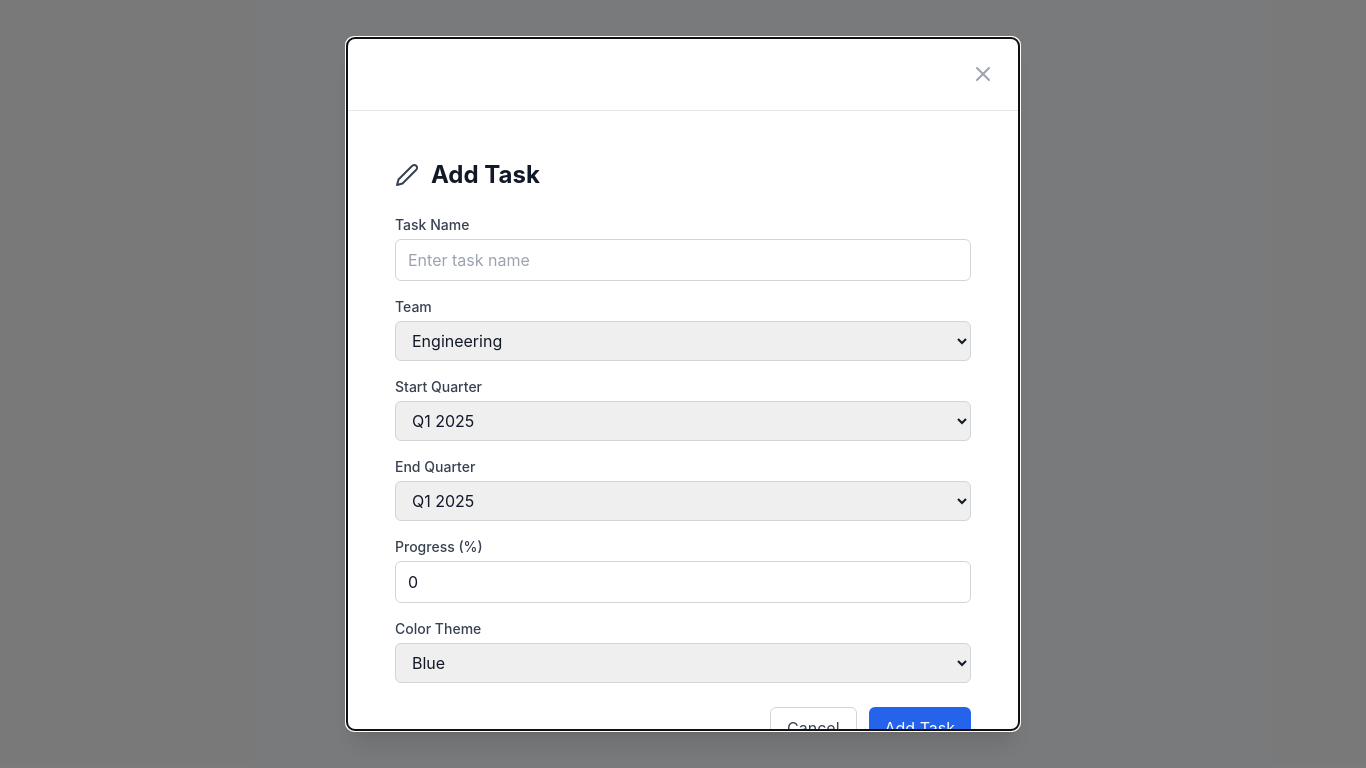
Scenario: TaskModal › Validation › shows error for duplicate task name
Type "Existing Task" into the field labelled "Task Name". click: (683, 260)
box: [395,239,971,281]
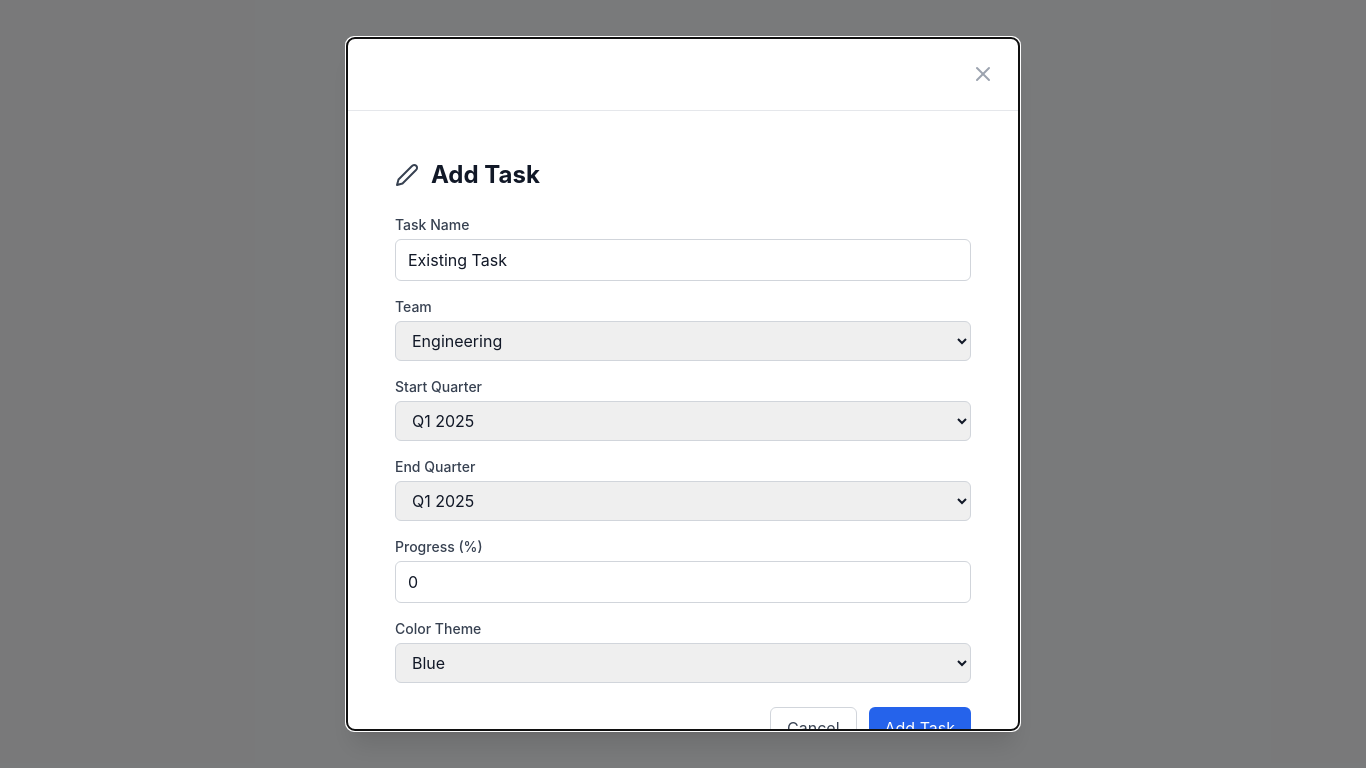
Click the button "Add Task". click: click(920, 728)
box: [868,707,971,749]
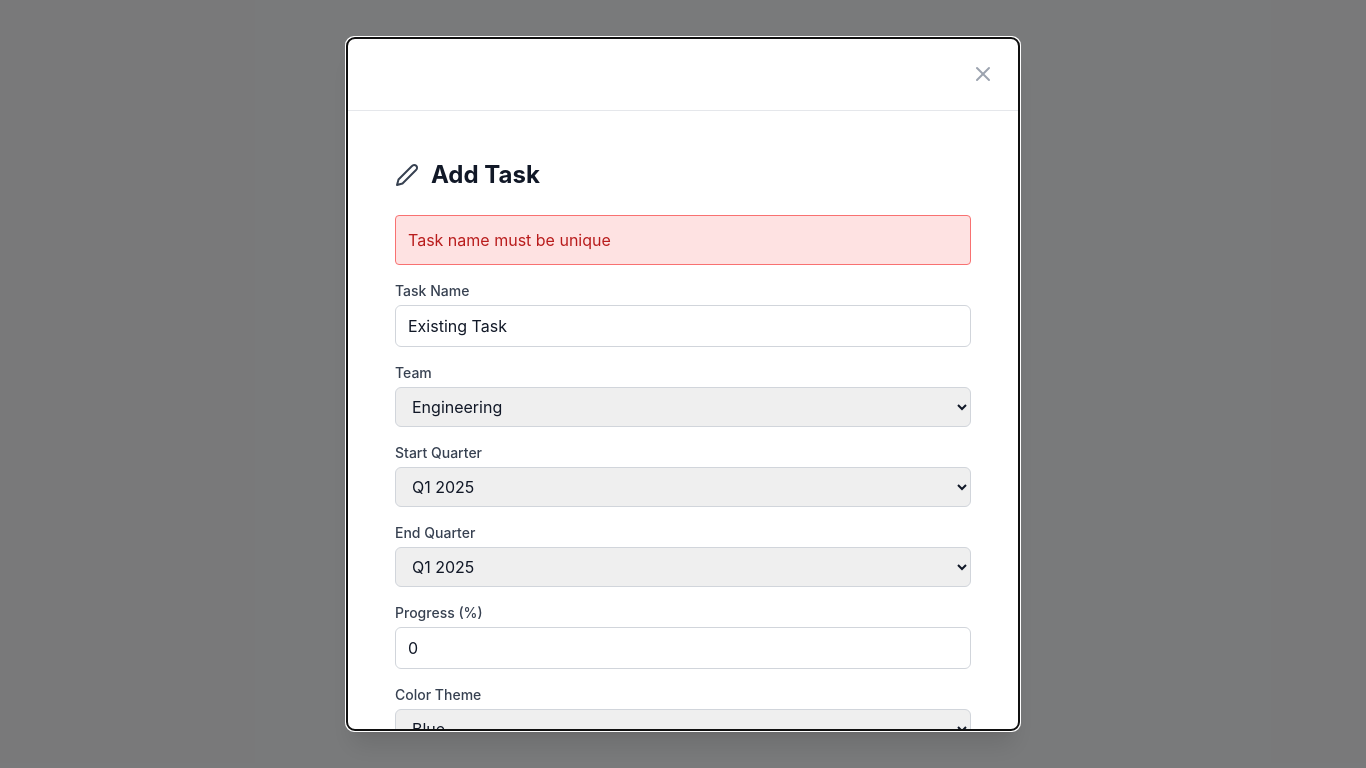
Expected: the message "Task name must be unique" is shown, [395,215,971,265]
